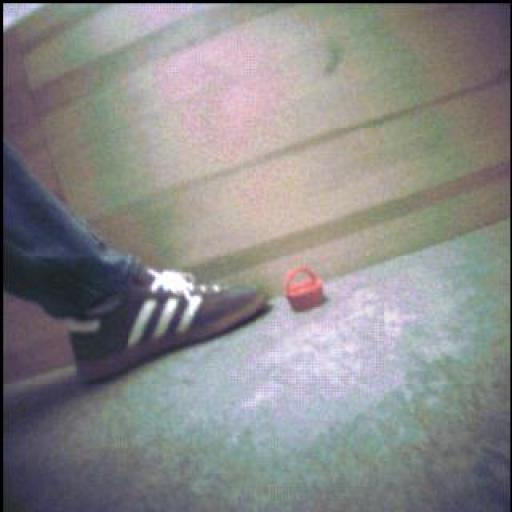Bucket: (284, 265, 325, 312)
